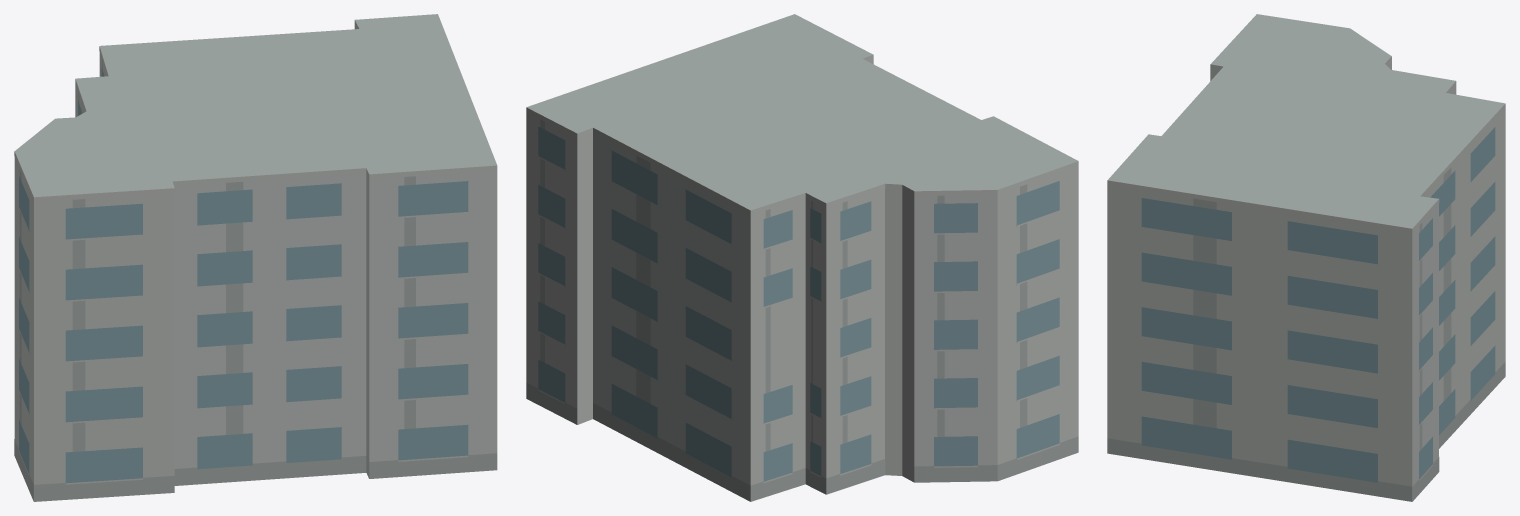
Rendered from survey-upis-32528307.glb.
3 renders of one model, left to right at view 1: azimuth 30°, elevation 25°; view 2: azimuth 150°, elevation 25°; view 3: azimuth 270°, elevation 25°, orthographic. The views are drawn at different scales.
Visible parts, largest first — view 1: survey-upis-32528307.tmp; view 2: survey-upis-32528307.tmp; view 3: survey-upis-32528307.tmp.
Part boxes in pixels (x1=…): survey-upis-32528307.tmp: x1=14, y1=14, x2=497, y2=501; survey-upis-32528307.tmp: x1=526, y1=14, x2=1078, y2=501; survey-upis-32528307.tmp: x1=1107, y1=14, x2=1505, y2=501.
Size of the model in its own units: 24.79 by 14.7 by 19.43.
